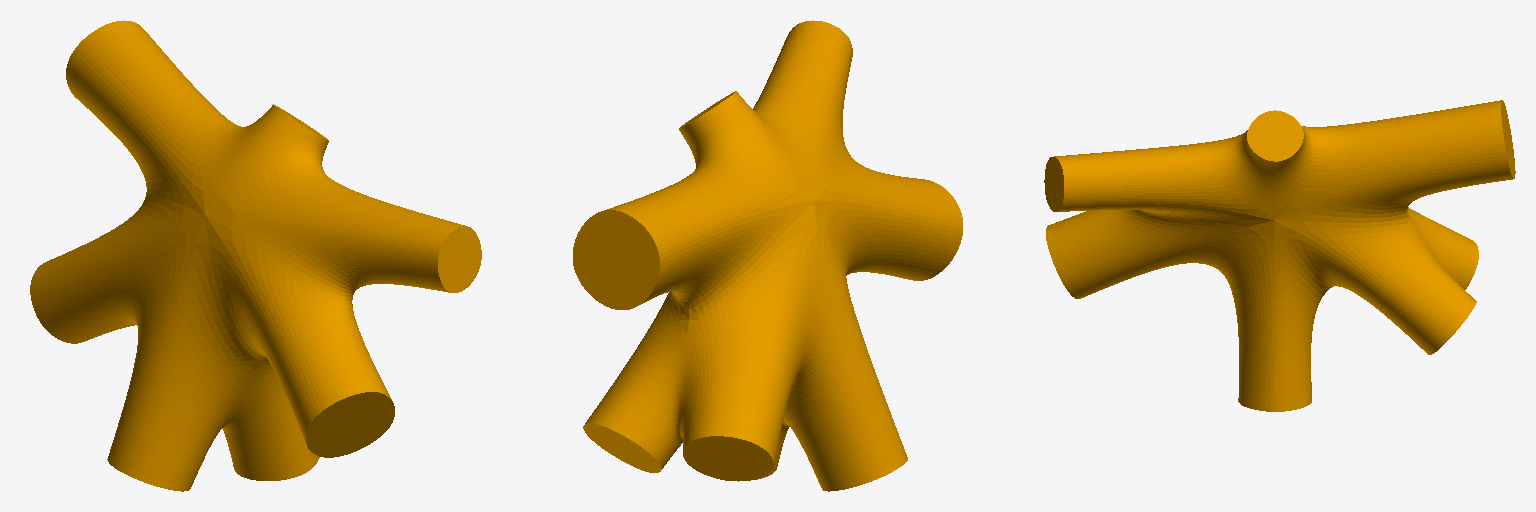
The robot description file, URDF, robot "object":
<robot name="object">
  <link name="object">
    <visual>
      <origin xyz="0 0 0"/>
      <geometry>
        <mesh filename="visual.obj" scale="1 1 1"/>
      </geometry>
    </visual>
    <collision>
      <origin xyz="0 0 0"/>
      <geometry>
        <mesh filename="visual.obj" scale="1 1 1"/>
      </geometry>
    </collision>
    <inertial>
      <mass value="0.05"/>
      <inertia ixx="0.0001895282387397089" iyy="7.881632857930077e-05" izz="0.0001448754014163252" ixy="8.056494270731688e-06" ixz="-1.3020905394643106e-05" iyz="1.1805960621713167e-06"/>
    </inertial>
  </link>
</robot>

--- Render facts (derived) ---
3 views of the same robot in one strip: view 1: azimuth 30°, elevation 25°; view 2: azimuth 150°, elevation 25°; view 3: azimuth 270°, elevation 25° (orthographic).
Robot: object — 1 links, 0 joints (none); root link object; default pose: every joint at zero.
Visible links, largest first — view 1: object; view 2: object; view 3: object.
Boxes of the visible links, x1,y1,x2,y2 form: object: (30, 20, 481, 491); object: (573, 20, 962, 491); object: (1044, 100, 1515, 411).
Size in the robot's own frame: 0.1129 by 0.2308 by 0.1599 metres.
1 mesh visuals loaded from 1 distinct referenced files (1 OBJ).
